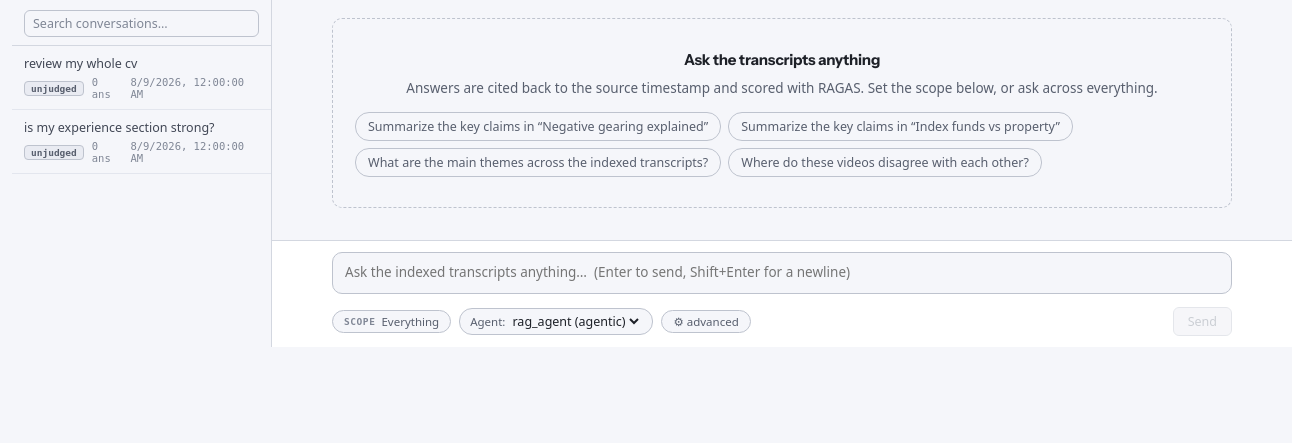
Scenario: ChatView document cache › reuses the cached page across conversations without reusing its selection
The width and height of the screenshot is (1292, 443).
Click the button "is my experience section strong?". click: (142, 142)
box: x1=12 y1=110 x2=271 y2=174
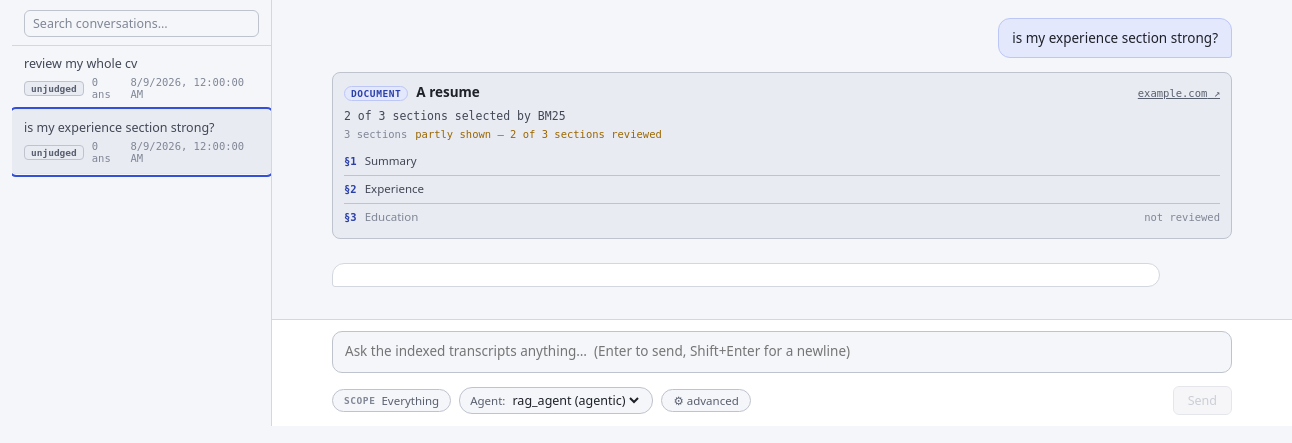
Now the text "2 of 3 sections selected by BM25" is shown, box x1=344 y1=108 x2=566 y2=122
Now the text "not reviewed" is shown, box x1=1144 y1=210 x2=1220 y2=222
Click the button "review my whole cv". click: (142, 78)
box: x1=12 y1=46 x2=271 y2=110
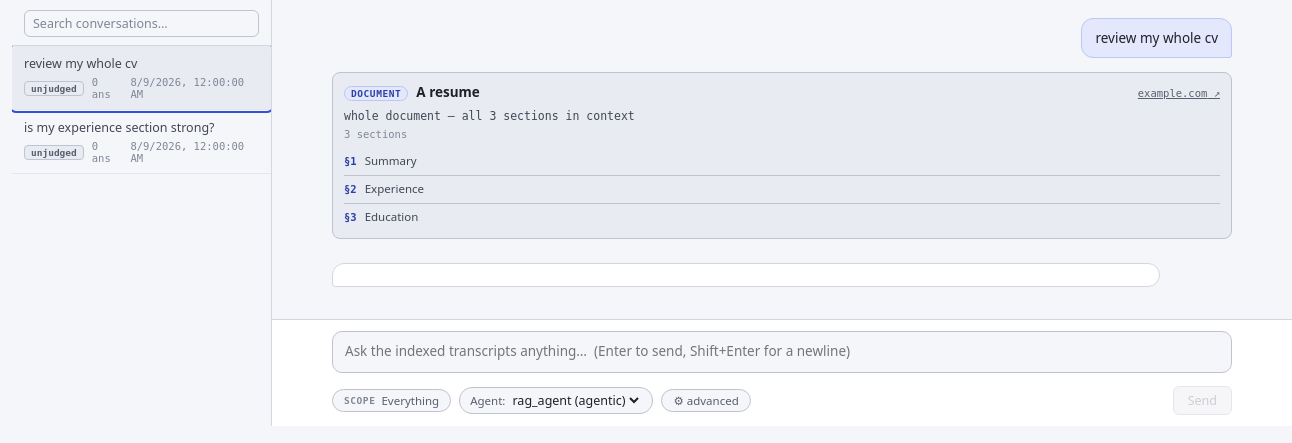
Now the text "whole document — all 3 sections in context" is shown, box x1=344 y1=108 x2=635 y2=122
Now the text "2 of 3 sections selected by BM25" is gone
Now the button "not reviewed" is gone
